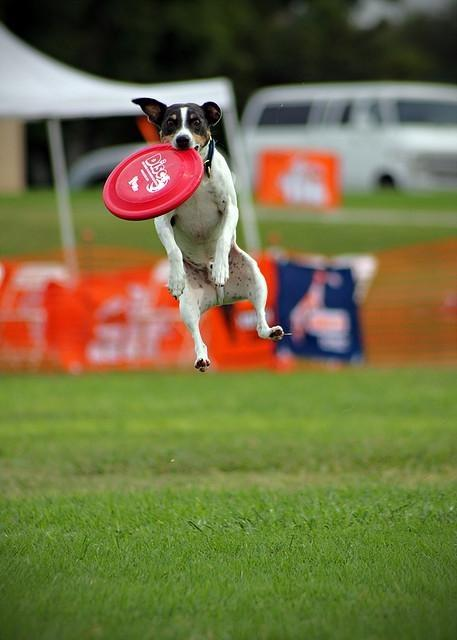car: (67, 140, 156, 193)
truck: (241, 82, 457, 195)
